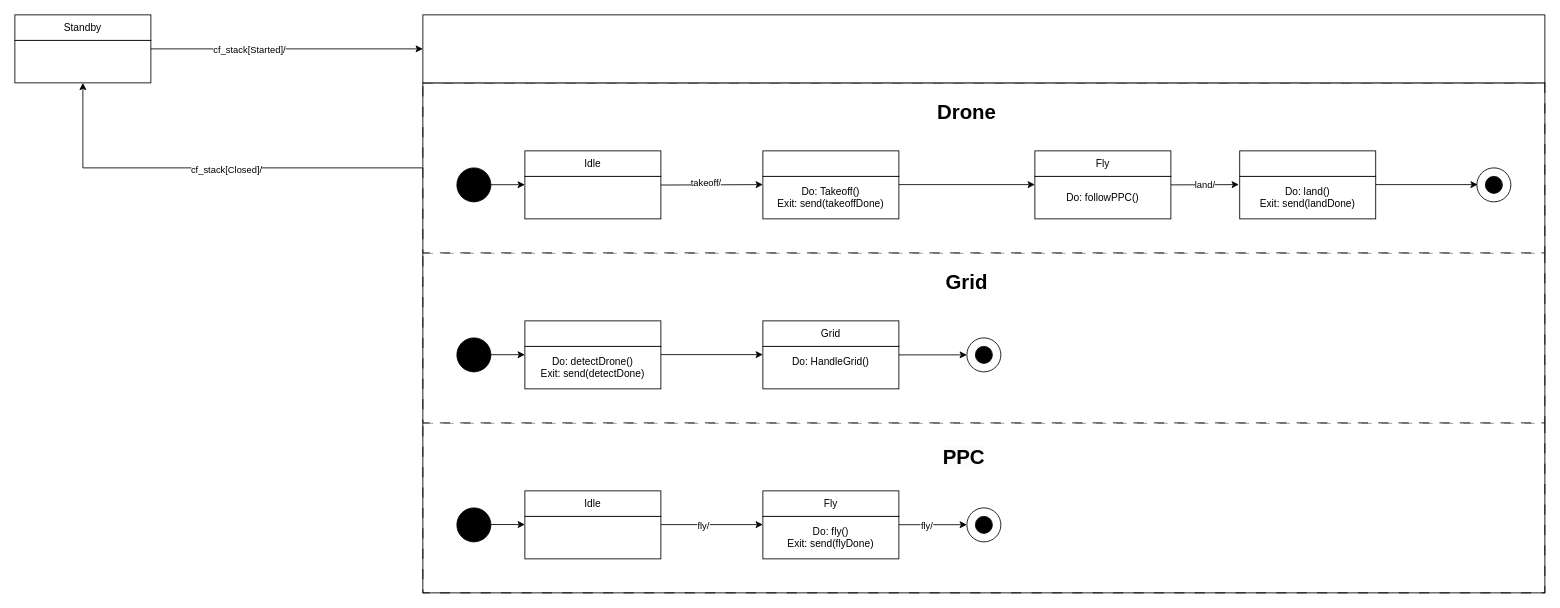
This 1560x608 diagram has some shape labels left out. The centre of each missing label's shape, as x and y in pixels:
"Detect" belongs at (592,333).
"Land" belongs at (1307,163).
"MISSION" belongs at (983,48).
"Takeoff" belongs at (830,163).
